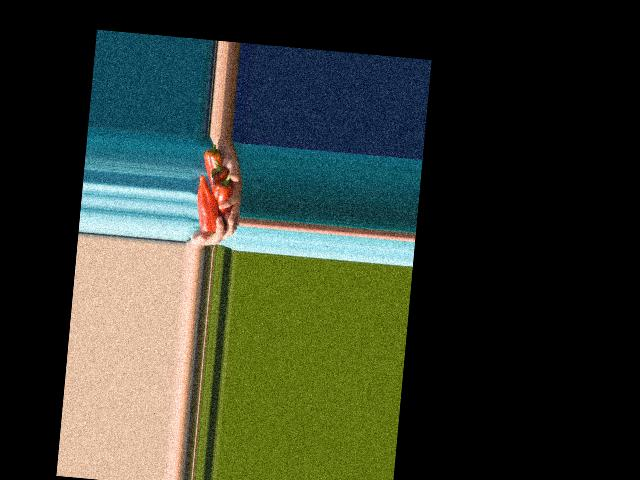bell_pepper: (202, 143, 225, 182)
